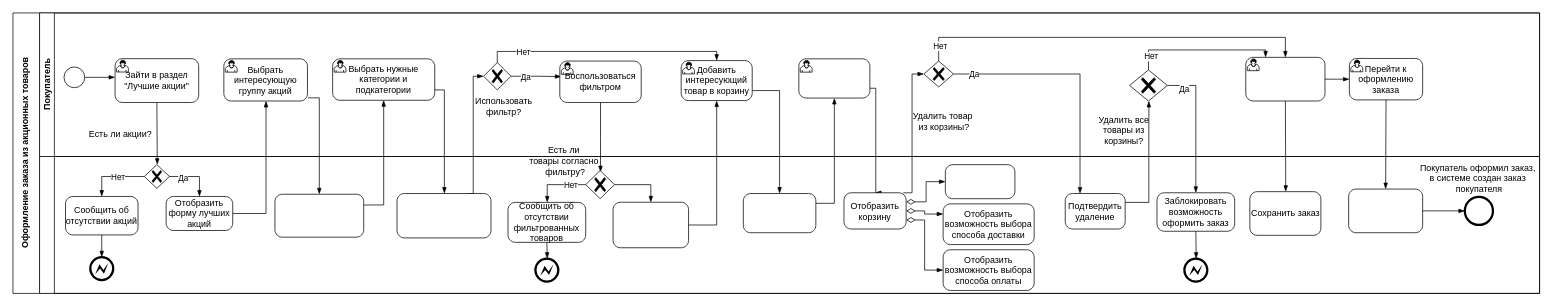
Some shapes in this 1557 by 306 pixel diagram are drawn without their labels. Each missing label, with the box of its shape:
Выбрать подходящие условия заказа: (1245, 57, 1325, 101)
Одобрить переход к оформлению заказа: (1348, 188, 1423, 233)
Отобразить возможность удалить товар: (945, 164, 1015, 199)
Отобразить категории и подкатегории акционных товаров: (274, 194, 364, 237)
Отобразить список акционных товаров с возможностью фильтрации: (396, 193, 491, 238)
Отобразить счётчик корзины: (743, 193, 816, 233)
Отобразить товары согласно заполненному фильтру: (612, 202, 689, 248)
Перейти в корзину: (798, 58, 870, 98)
Система: (39, 156, 1540, 293)
